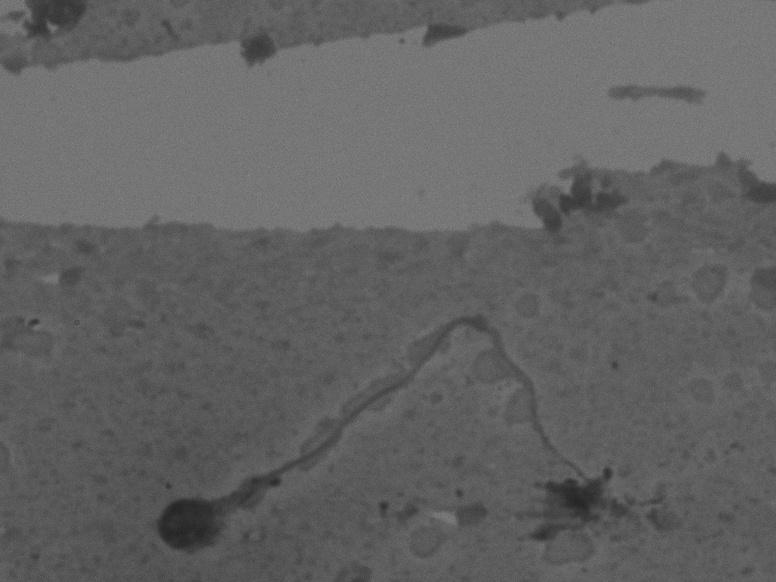Abnormal: (132, 285, 679, 578)
